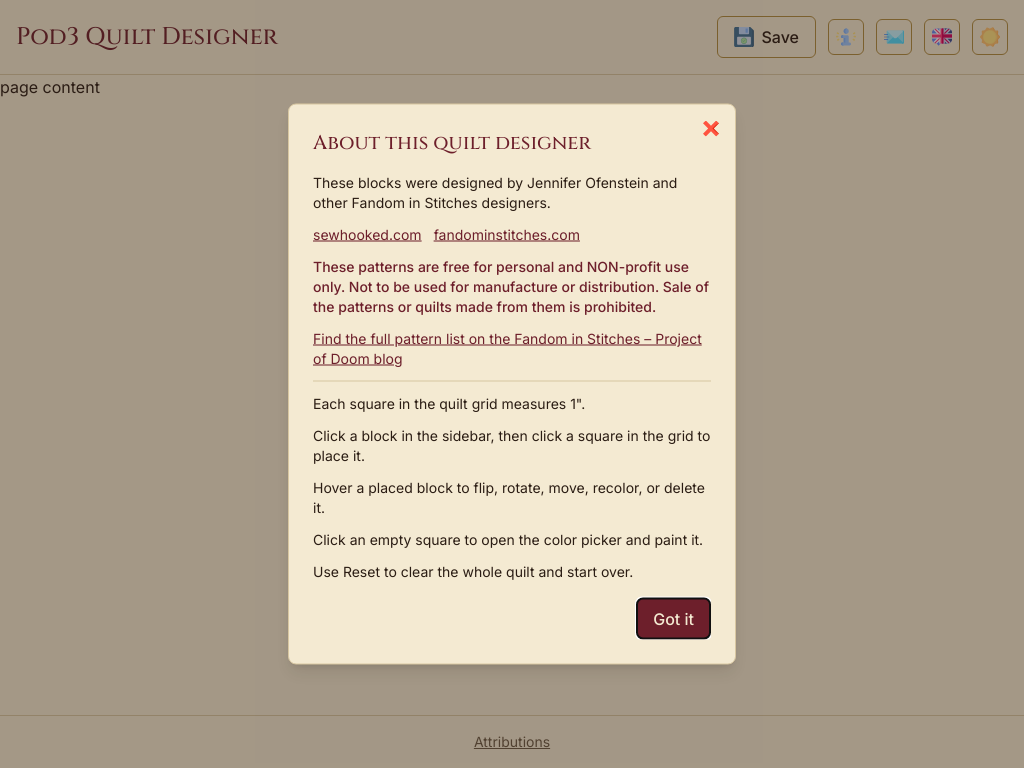
Layout › saves the quilt and shows a shareable link dialog
The image size is (1024, 768).
Click the button "Got it".
click(674, 618)  # box [636,598,711,640]
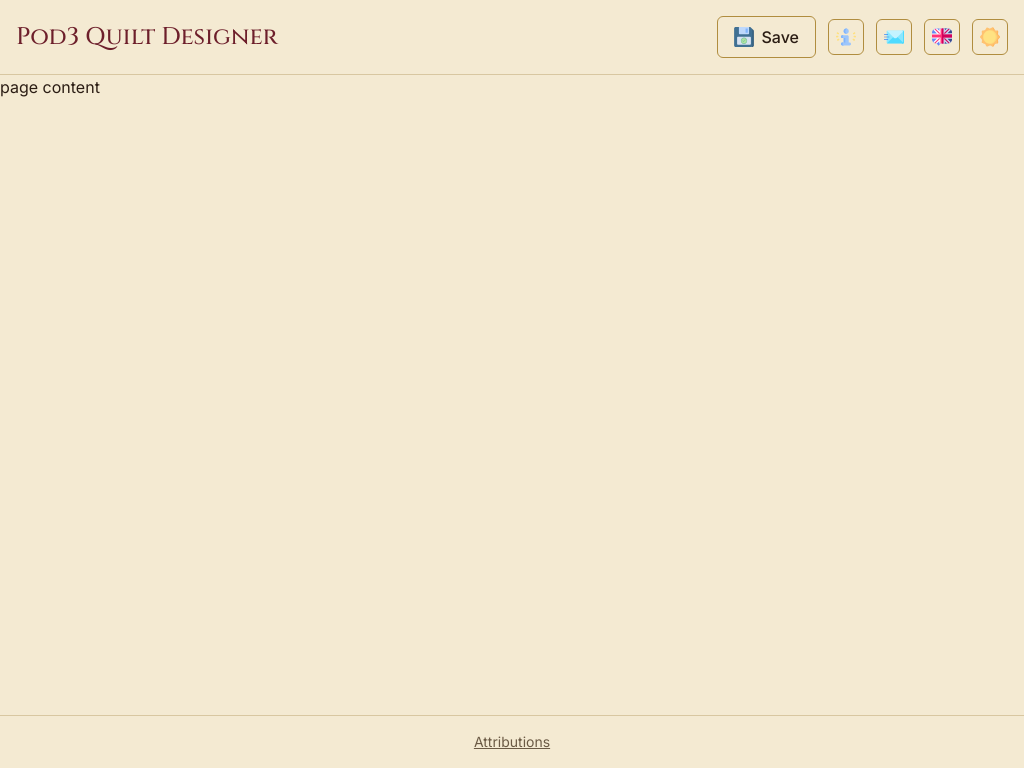
Click the button "Save".
click(766, 37)  # box [716,16,816,58]
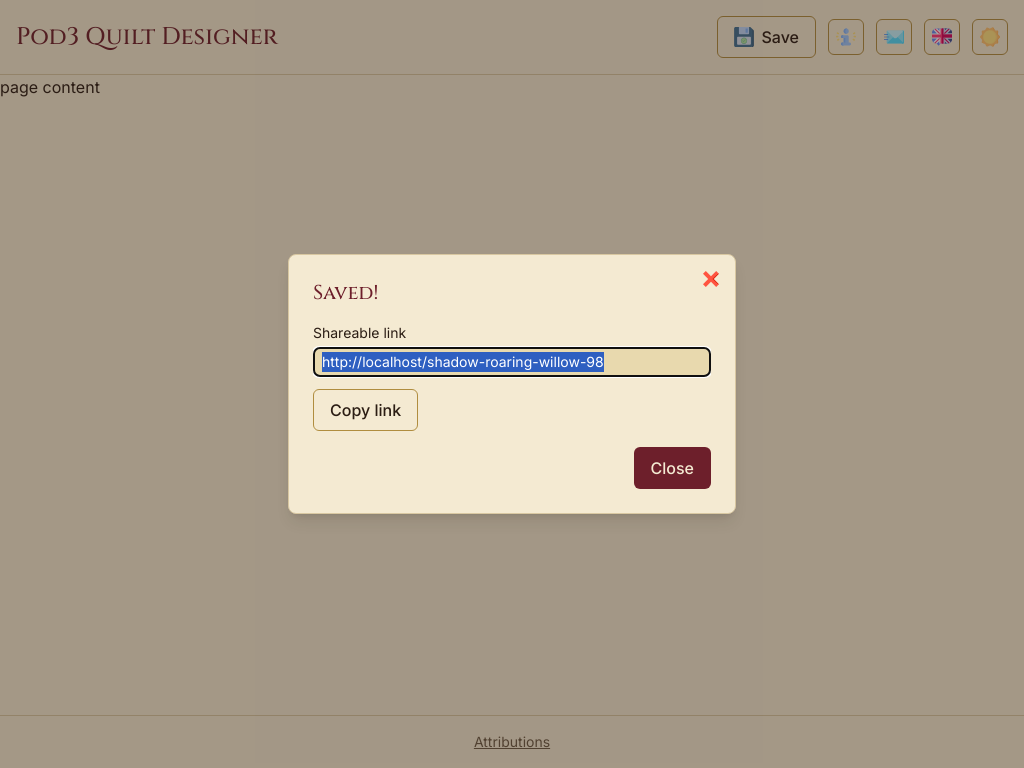
Expected: the heading "Saved!" is shown, [313,279,378,306]
